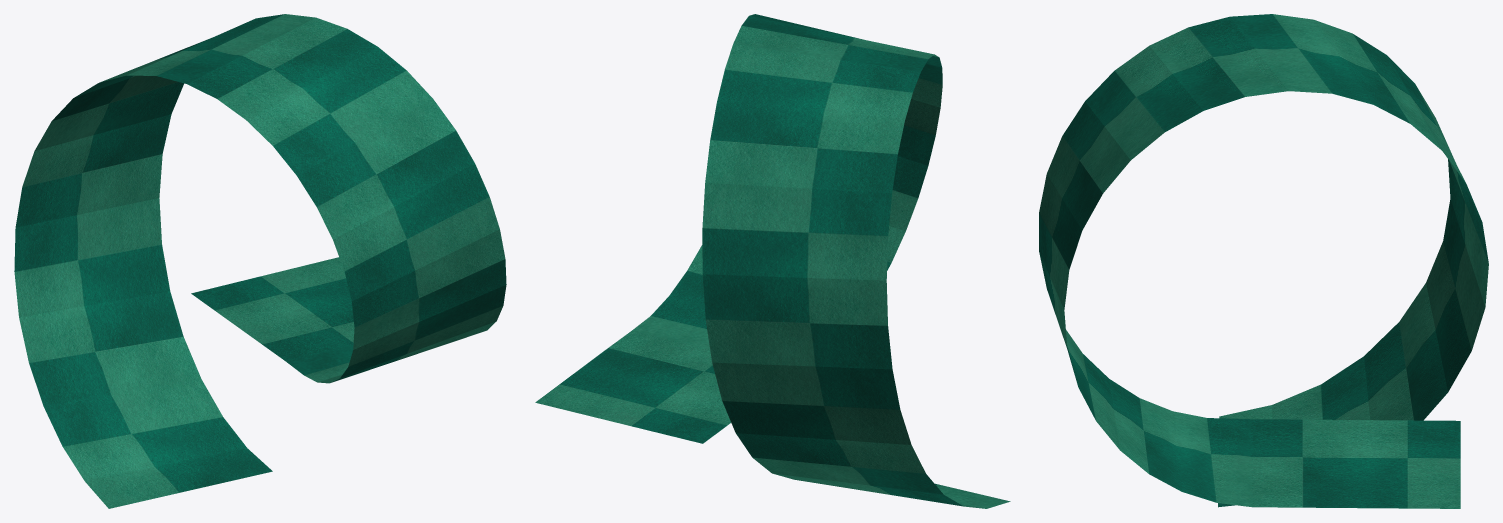
The model's file is PartSmall2Coaster.gltf.
3 renders of one model, left to right at view 1: azimuth 30°, elevation 25°; view 2: azimuth 150°, elevation 25°; view 3: azimuth 270°, elevation 25°, orthographic. The views are drawn at different scales.
Visible parts, largest first — view 1: PartSmall2Coaster_glb; view 2: PartSmall2Coaster_glb; view 3: PartSmall2Coaster_glb.
Boxes of the visible parts, <box> form: PartSmall2Coaster_glb: <box>14,14,506,508</box>; PartSmall2Coaster_glb: <box>535,14,1010,508</box>; PartSmall2Coaster_glb: <box>1039,14,1488,508</box>.
Size of what is drawn, in the model's own units: 4.31 by 4.79 by 4.28.
1 material, 1 textured.
